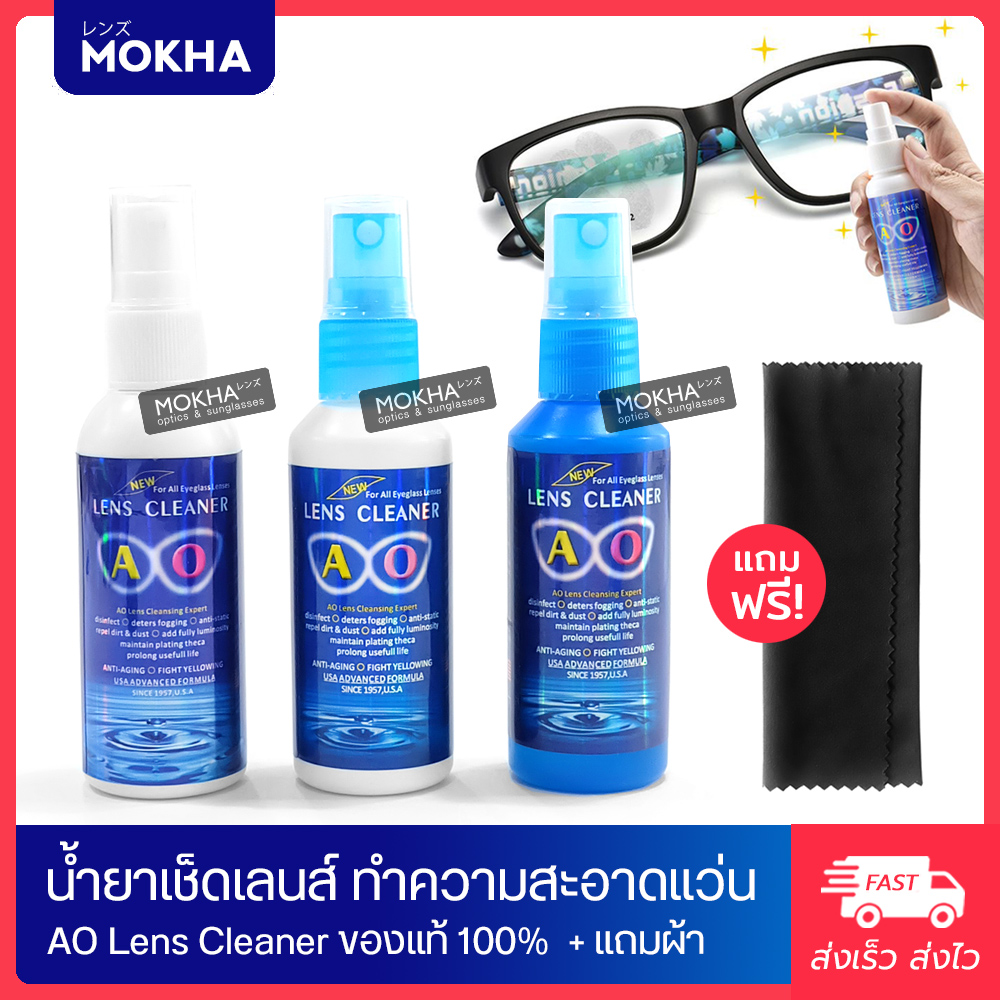Cleaning_solution: (71, 183, 257, 802), (500, 189, 678, 800), (283, 195, 463, 799)
